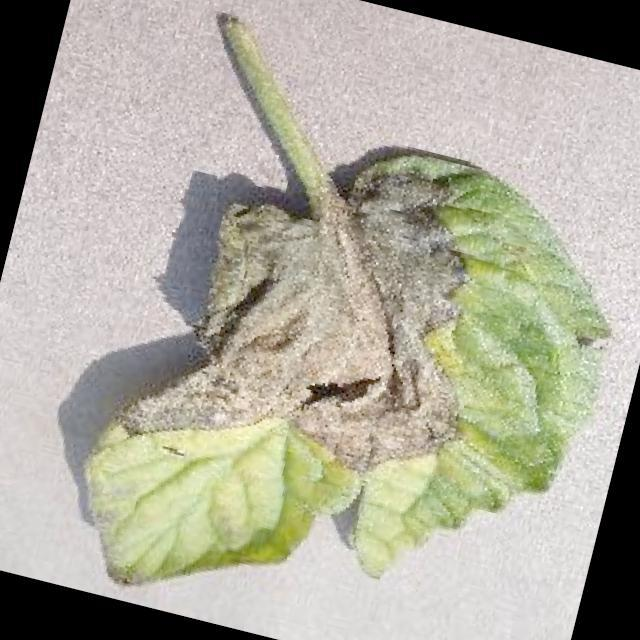Tomato late blight leaf: (54, 86, 640, 640)
